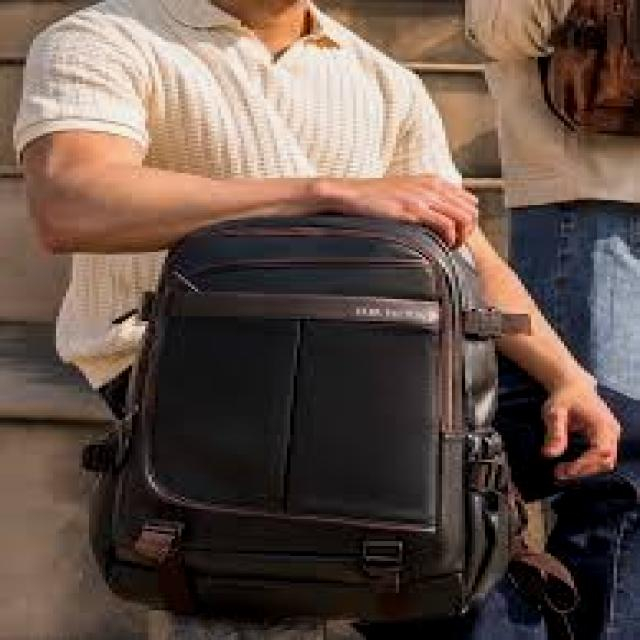backpack: (80, 214, 526, 624)
